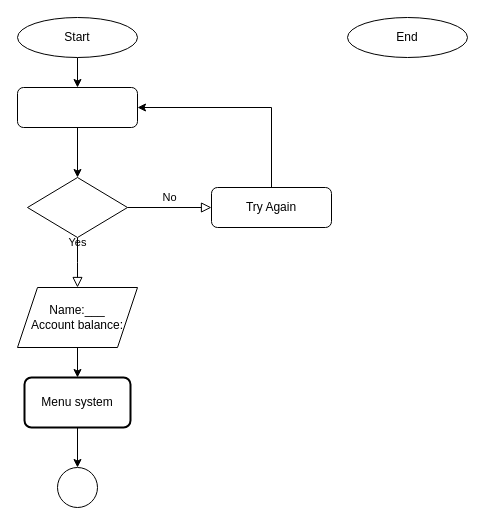
The diagram is 485 pixels wide and 525 high, and some of its shapes have lost their labels. The centre of each missing label's shape, as x and y in pixels:
Enter Pin: point (77, 207)
Welcome: point (77, 107)
